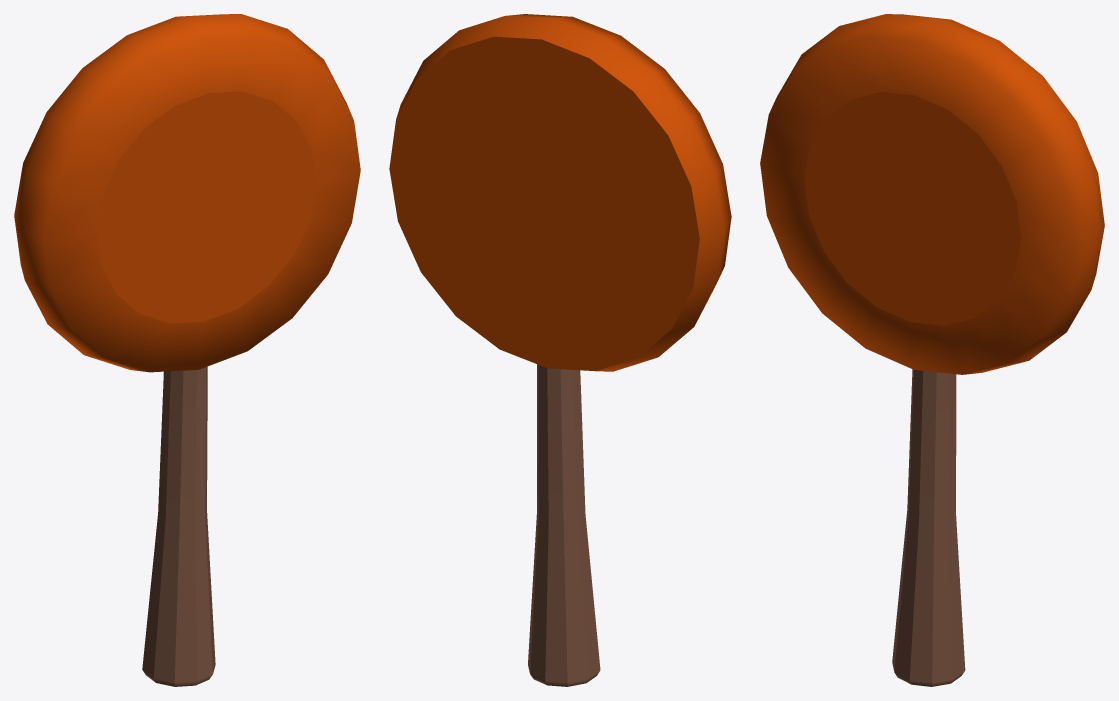
The model's file is lollipop02.dae.
The picture shows the model from 3 angles, left to right: view 1: azimuth 30°, elevation 25°; view 2: azimuth 150°, elevation 25°; view 3: azimuth 330°, elevation 25°; orthographic projection.
Parts seen in each view (by area): view 1: tikkari; view 2: tikkari; view 3: tikkari.
Boxes of the visible parts, box(x1,y1,x2,y2) form: tikkari: box(14, 14, 360, 686); tikkari: box(389, 14, 731, 686); tikkari: box(760, 14, 1104, 686).
Size of the model in its own units: 49.02 by 91.95 by 10.42.
